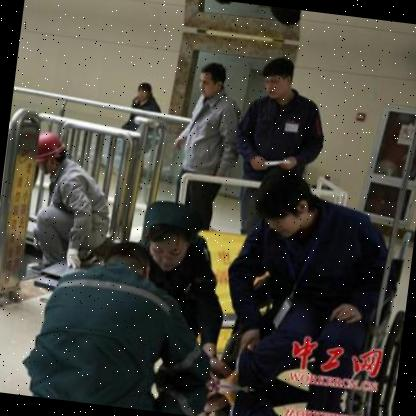capacete: (30, 128, 70, 168)
